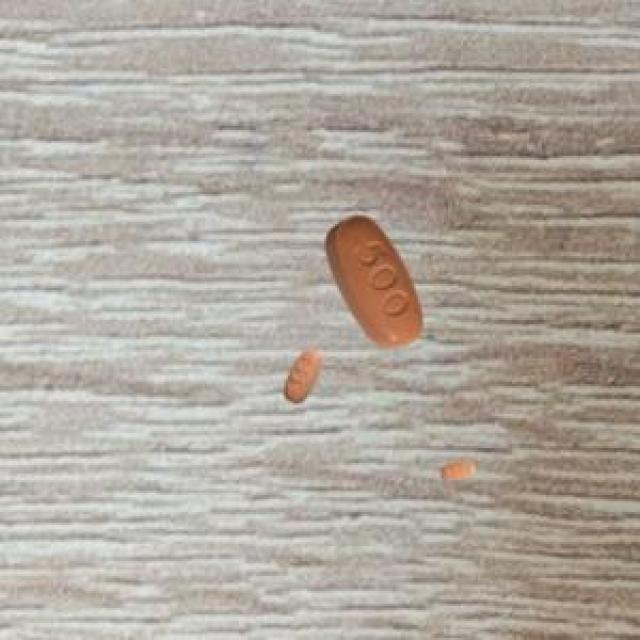Biogesic: (313, 200, 432, 358), (433, 448, 490, 504), (274, 345, 322, 409)
